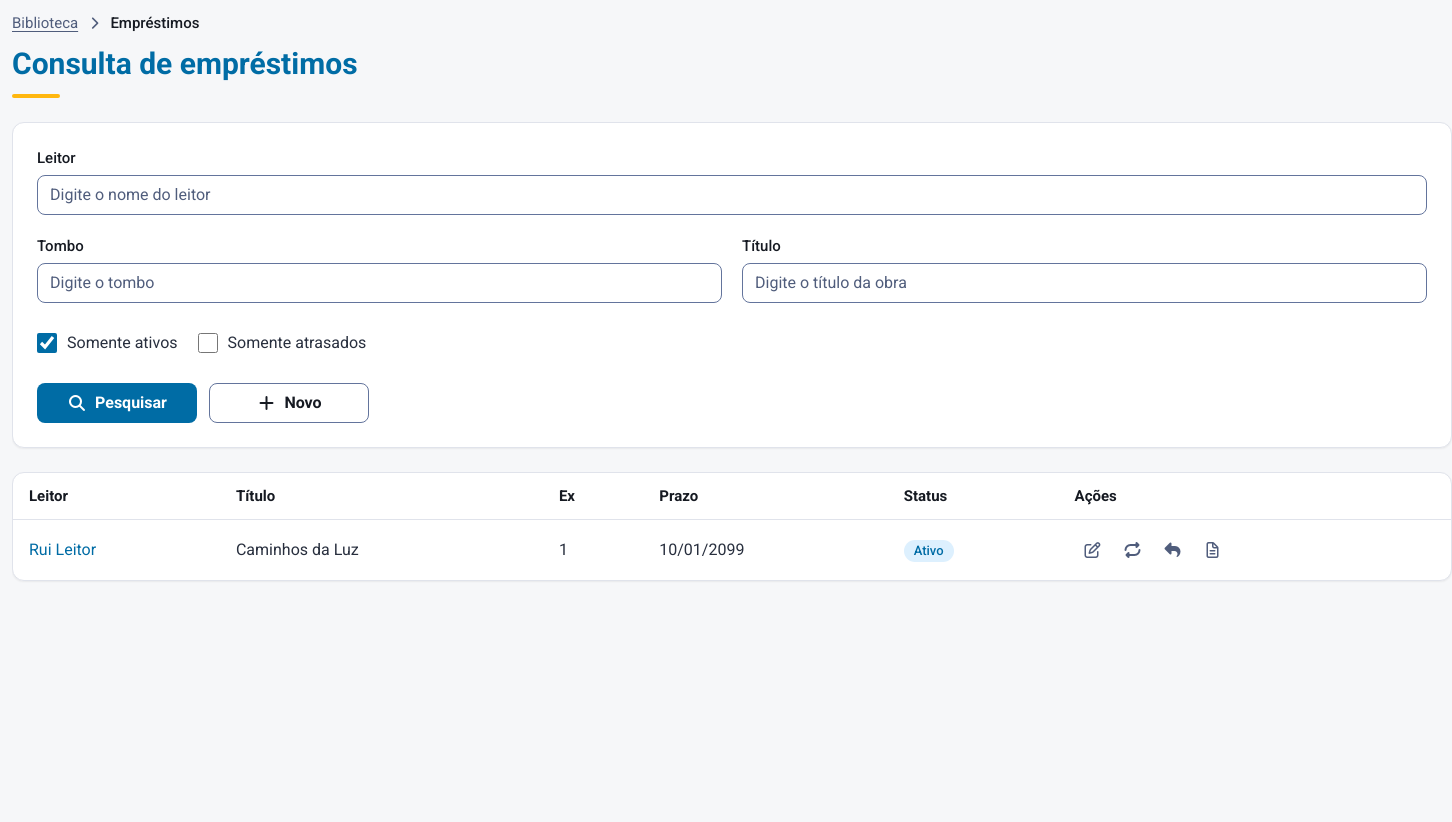
loans page actions › reports a failed return
The width and height of the screenshot is (1452, 822).
Click the button named "Devolver": x=1173, y=550 1155,532 -> 1191,568
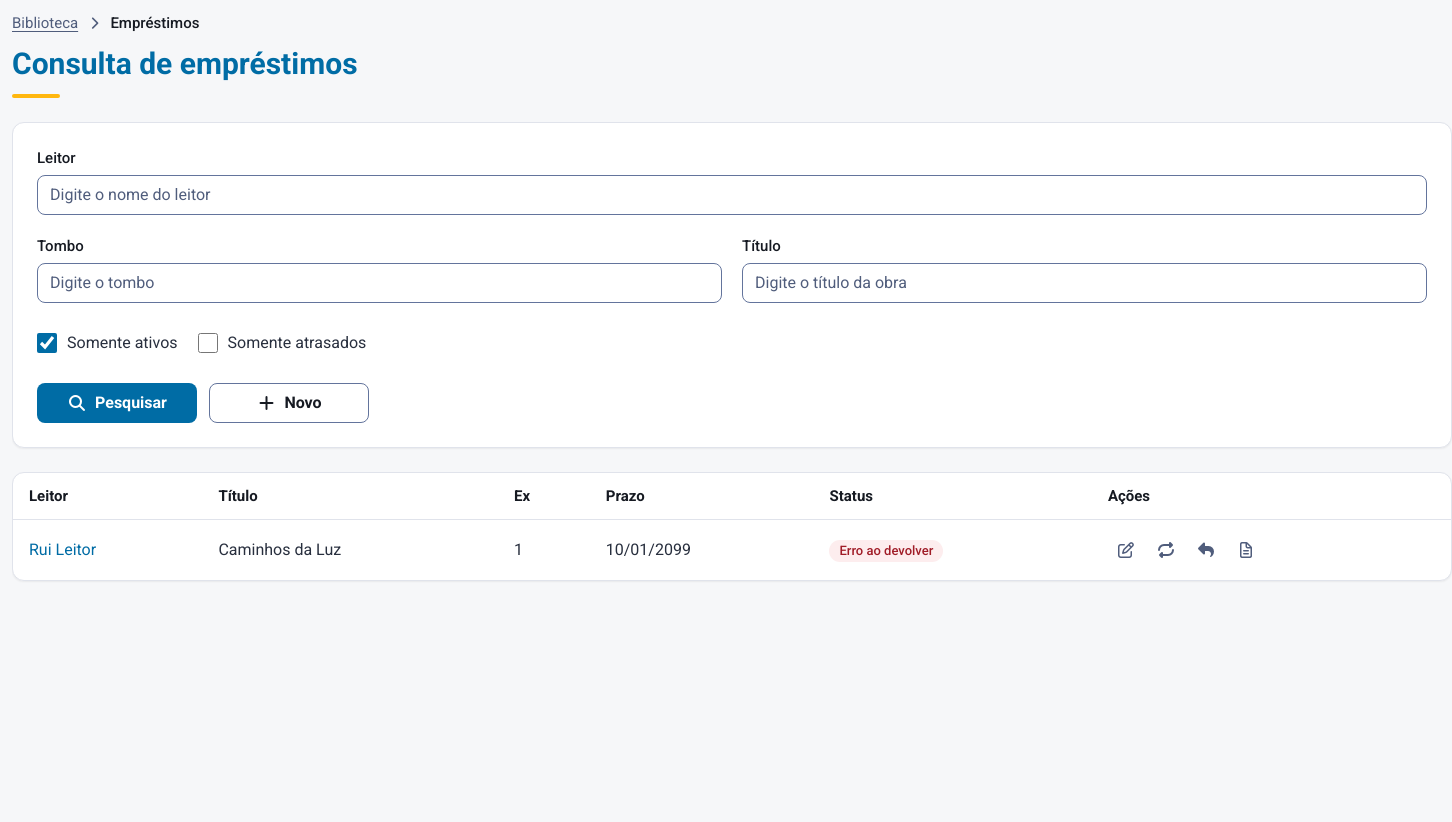
Result: the text "Erro ao devolver" is shown at 830,540 -> 943,562
